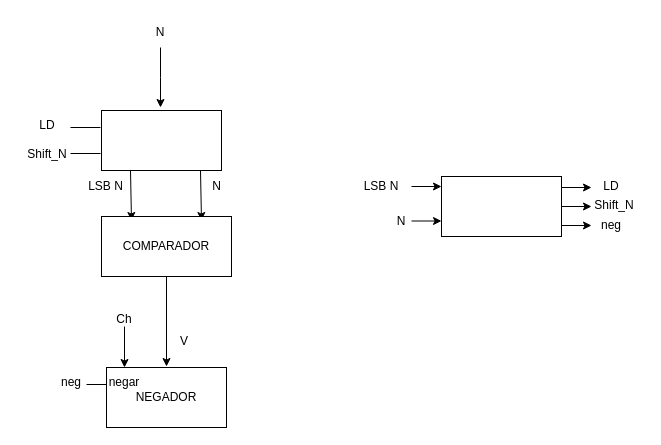
This 661x445 diagram has some shape labels left out. The shapes that lost their labels are listed below. From the top down, each one's centre as x and y in pixels, then its label:
At (161,140): "LOAD RSR".
At (501,206): "Maquina de Control".
